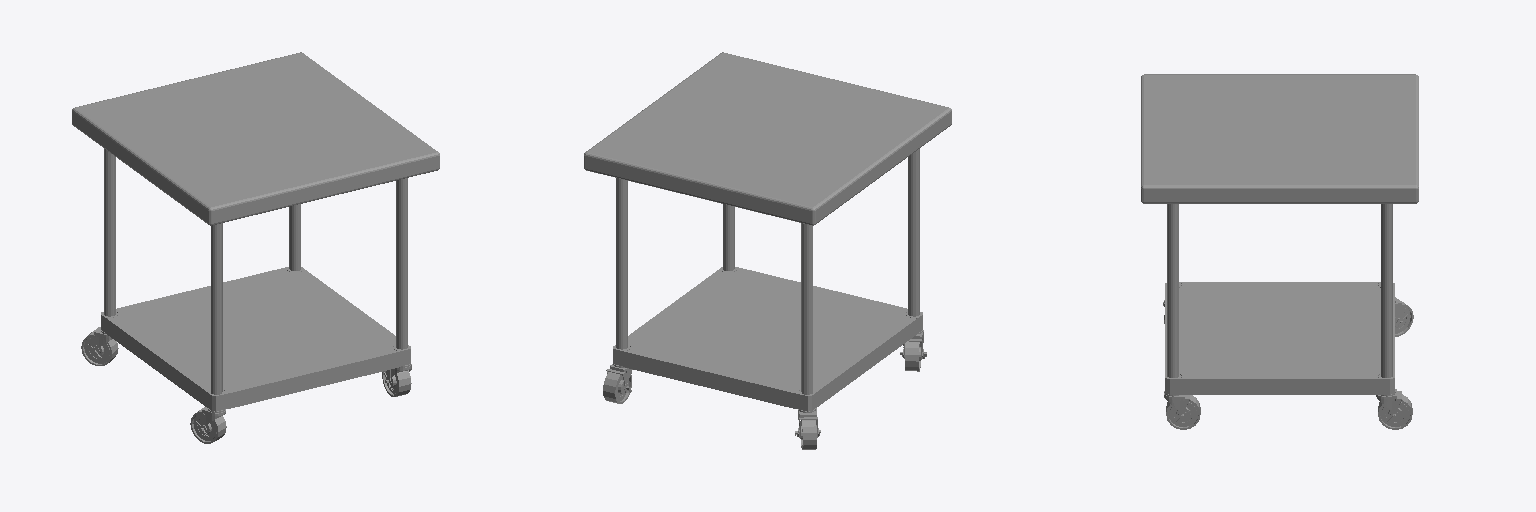
File: table1x1obj.obj
The picture shows the model from 3 angles: view 1: azimuth 30°, elevation 25°; view 2: azimuth 150°, elevation 25°; view 3: azimuth 270°, elevation 25°; orthographic projection.
Parts seen in each view (by area): view 1: Cube.145_Cube.152, Cube.146_Cube.153, Cylinder.087_Cylinder.514, Cylinder.076_Cylinder.503, Cylinder.089_Cylinder.516, Cylinder.088_Cylinder.515; view 2: Cube.145_Cube.152, Cube.146_Cube.153, Cylinder.089_Cylinder.516, Cylinder.088_Cylinder.515, Cylinder.087_Cylinder.514, Cylinder.076_Cylinder.503; view 3: Cube.145_Cube.152, Cube.146_Cube.153, Cylinder.076_Cylinder.503, Cylinder.088_Cylinder.515.
Part boxes in pixels (x1,y1,x2,y2): Cube.145_Cube.152: (72,52,439,225); Cube.146_Cube.153: (107,268,398,408); Cylinder.087_Cylinder.514: (208,223,224,412); Cylinder.076_Cylinder.503: (396,178,410,367); Cylinder.089_Cylinder.516: (101,149,115,333); Cylinder.088_Cylinder.515: (289,204,300,270); Cube.145_Cube.152: (584,52,951,225); Cube.146_Cube.153: (625,268,916,408); Cylinder.089_Cylinder.516: (799,223,815,412); Cylinder.088_Cylinder.515: (613,178,627,367); Cylinder.087_Cylinder.514: (908,149,922,333); Cylinder.076_Cylinder.503: (723,204,734,270); Cube.145_Cube.152: (1141,74,1418,203); Cube.146_Cube.153: (1165,282,1394,394); Cylinder.076_Cylinder.503: (1164,204,1178,396); Cylinder.088_Cylinder.515: (1381,204,1395,396).
Bounding box in the file's own units: 2.46 × 2.56 × 2.56.